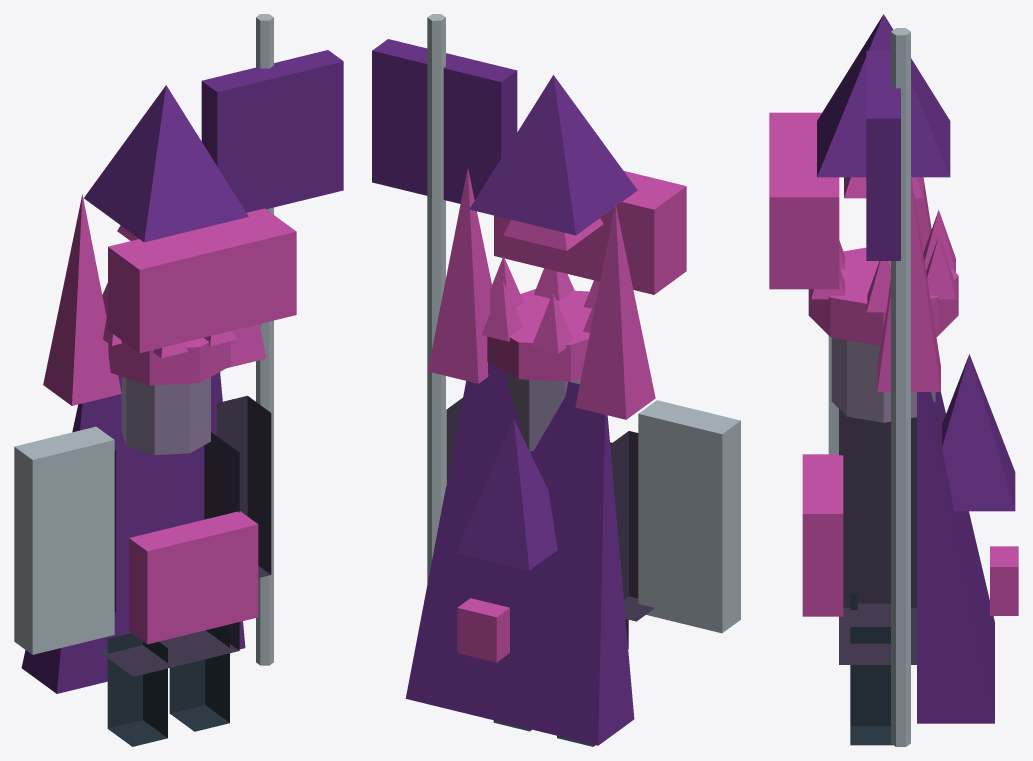
Rendered from hero.obj.
3 views of the same model, side by side, from view 1: azimuth 30°, elevation 25°; view 2: azimuth 150°, elevation 25°; view 3: azimuth 270°, elevation 25° (orthographic). The views are drawn at different scales.
Parts seen in each view (by area): view 1: hero; view 2: hero; view 3: hero.
Part boxes in pixels (x1,y1,x2,y2): hero: (14,14,343,746); hero: (372,14,740,746); hero: (769,14,1018,746).
Bounding box in the file's own units: 1.32 × 2.59 × 0.785.
